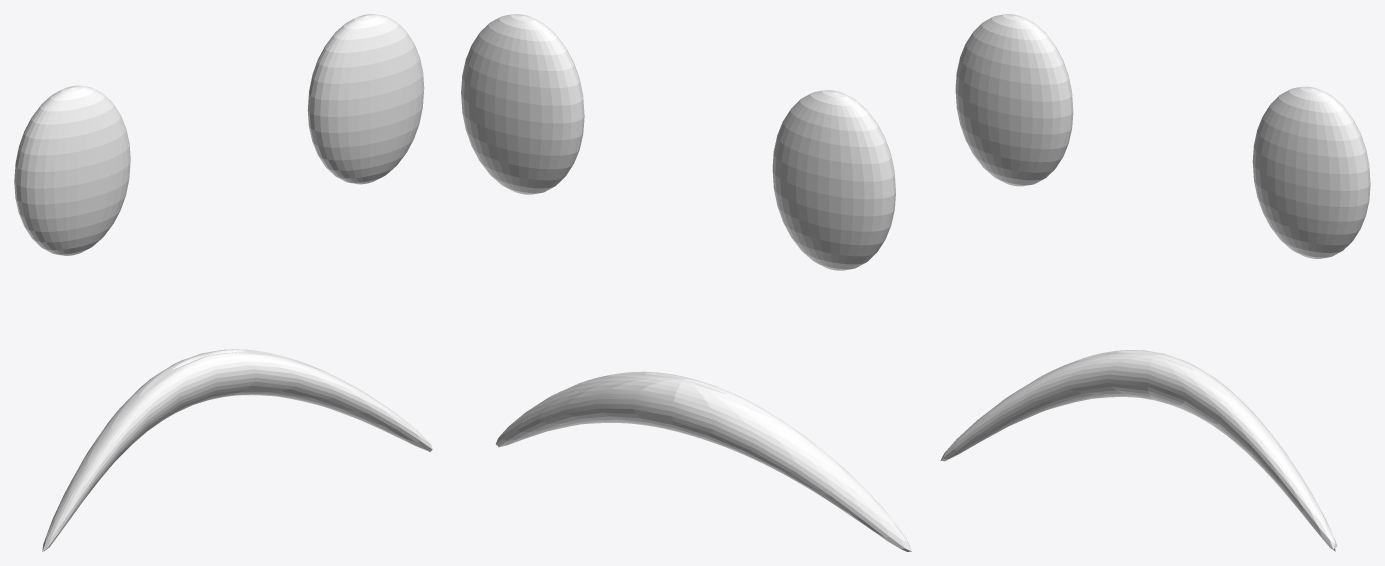
The model's file is AbsolutelySlump_eyesMouth.obj.
3 renders of one model, left to right at view 1: azimuth 30°, elevation 25°; view 2: azimuth 150°, elevation 25°; view 3: azimuth 330°, elevation 25°, orthographic. The views are drawn at different scales.
Bounding box in the file's own units: 0.931 × 0.9569 × 0.1543.
